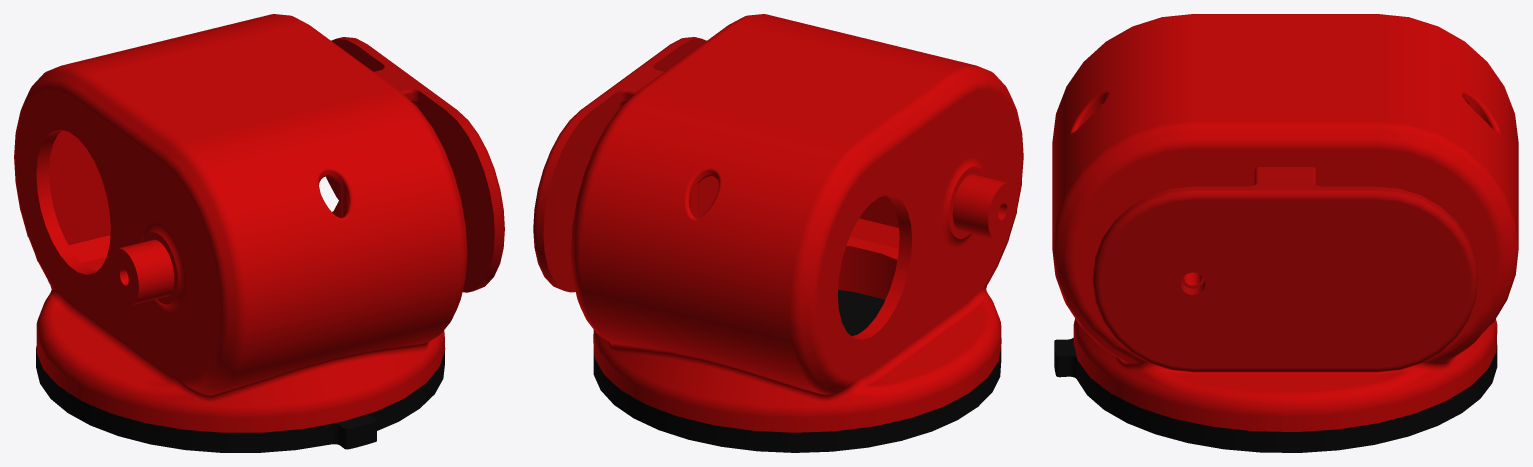
Rendered from Sciurus17_l7.gltf.
3 renders of one model, left to right at view 1: azimuth 30°, elevation 25°; view 2: azimuth 150°, elevation 25°; view 3: azimuth 270°, elevation 25°, orthographic. The views are drawn at different scales.
Parts seen in each view (by area): view 1: CRANE-X7_HandA 20180417 (1); view 2: CRANE-X7_HandA 20180417 (1); view 3: CRANE-X7_HandA 20180417 (1).
Part boxes in pixels (left/top/right/bottom): CRANE-X7_HandA 20180417 (1): left=14, top=14, right=504, bottom=452; CRANE-X7_HandA 20180417 (1): left=533, top=14, right=1023, bottom=452; CRANE-X7_HandA 20180417 (1): left=1052, top=14, right=1518, bottom=452.
Size of the model in its own units: 0.055 by 0.0423 by 0.0605.
